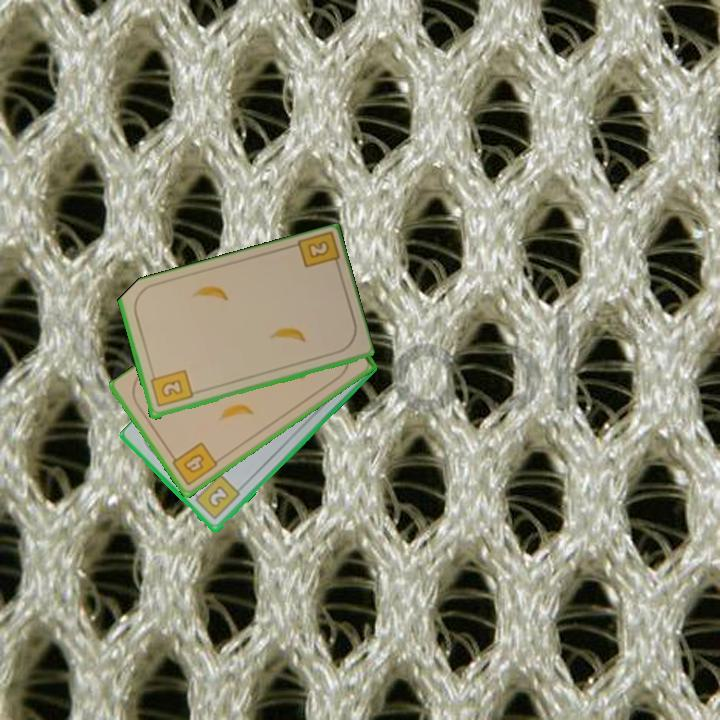2b: (189, 471, 243, 523), (292, 230, 343, 274), (147, 367, 195, 410)
4b: (166, 438, 221, 489)
